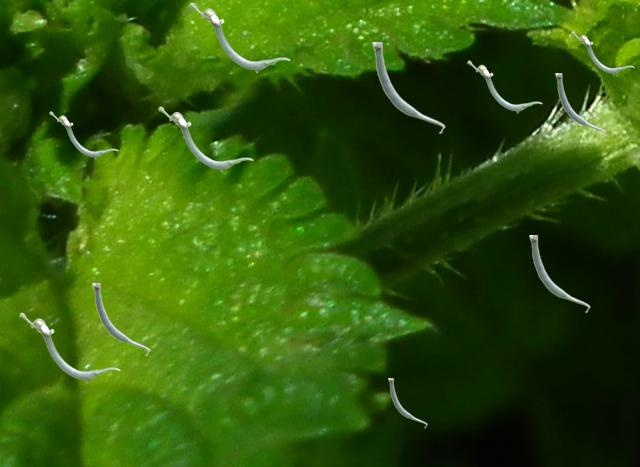french_bean: (189, 2, 289, 72), (19, 312, 119, 382), (372, 42, 444, 133), (158, 106, 252, 171), (529, 235, 589, 312), (92, 283, 149, 355), (467, 60, 541, 112), (49, 111, 117, 158), (555, 73, 604, 136), (571, 31, 633, 74), (388, 378, 426, 427)
